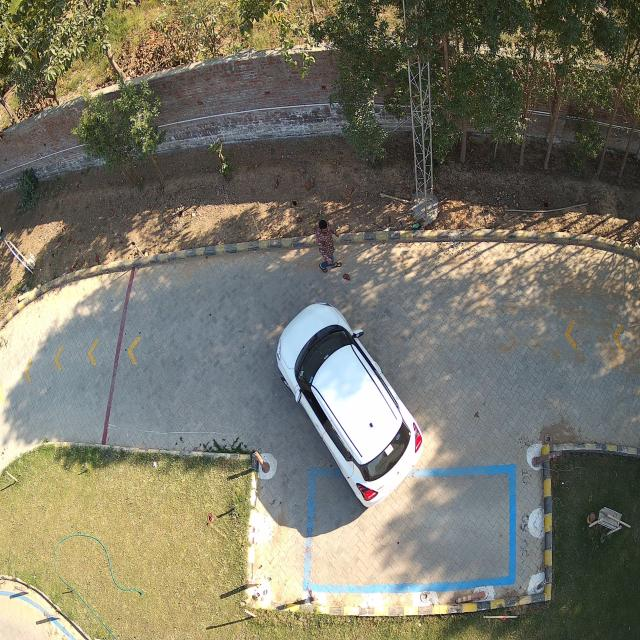car: (272, 303, 422, 508)
